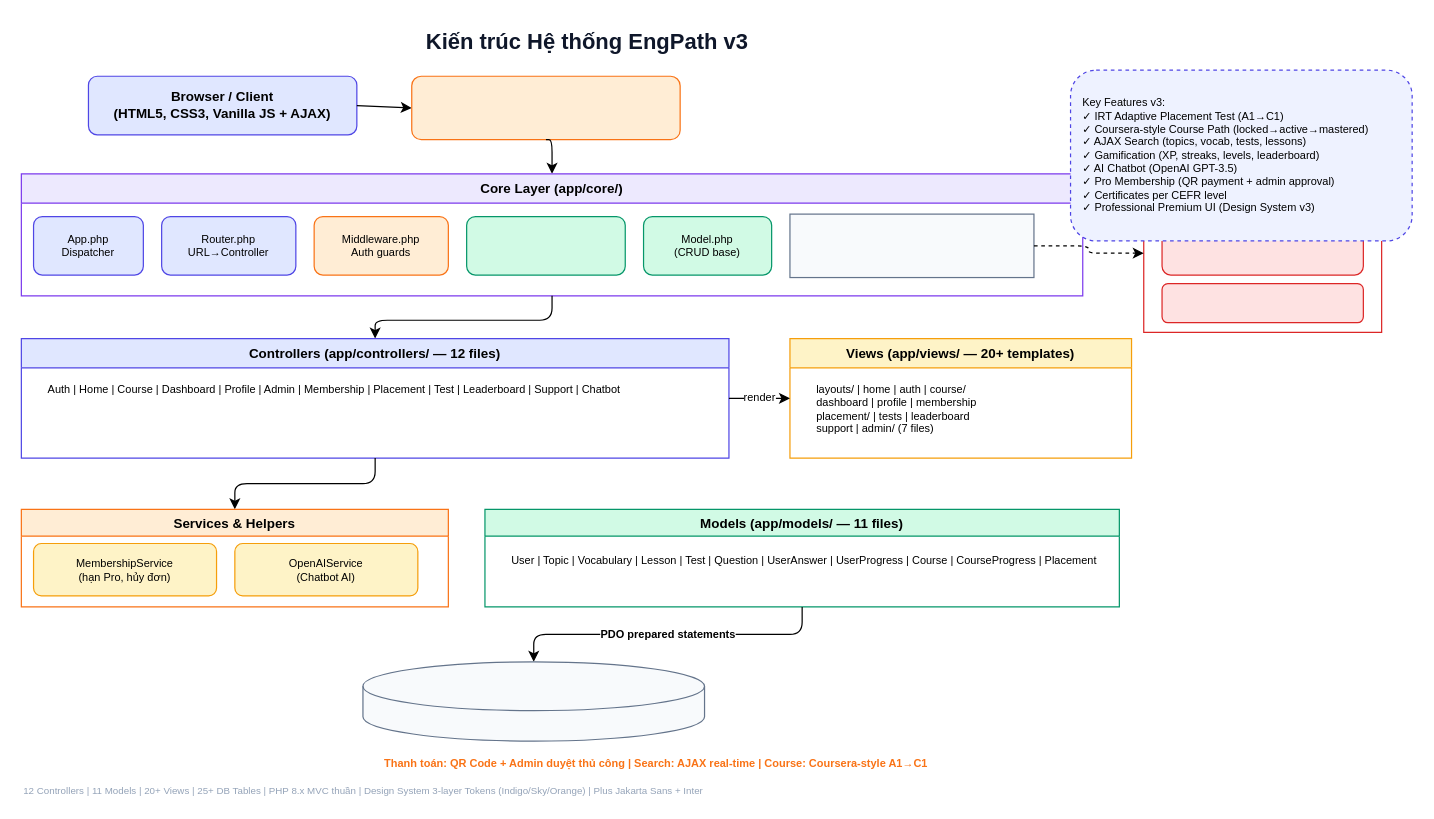
This 1434x819 diagram has some shape labels left out. Each missing label, with the centre of its shape:
"Controller.php (view,json,redirect)" goes at point 545,245.
"Env | Logger (Monolog) CSRF | RateLimiter StreakService | Exceptions" goes at point 911,245.
"Google OAuth 2.0 Đăng nhập Google" goes at point 1262,302.
"MySQL Database (english_master) 25+ tables | utf8mb4 | InnoDB" goes at point 533,701.
"OpenAI API GPT-3.5 Turbo Chatbot AI" goes at point 1262,245.
"public/index.php Front Controller" goes at point 545,107.
